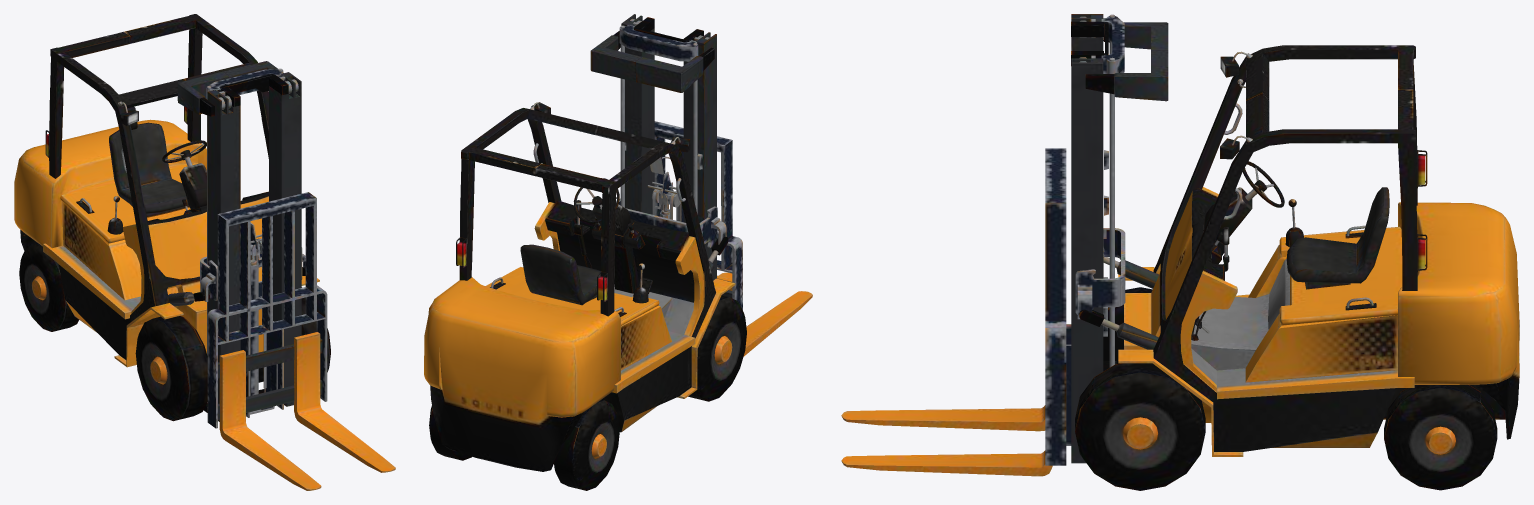
The model's file is forklift.glb.
3 views of the same model, side by side, from view 1: azimuth 30°, elevation 25°; view 2: azimuth 150°, elevation 25°; view 3: azimuth 270°, elevation 25° (orthographic). The views are drawn at different scales.
Bounding box in the file's own units: 1.31 × 2.58 × 3.86.
Materials: 1 (1 with a texture image).
